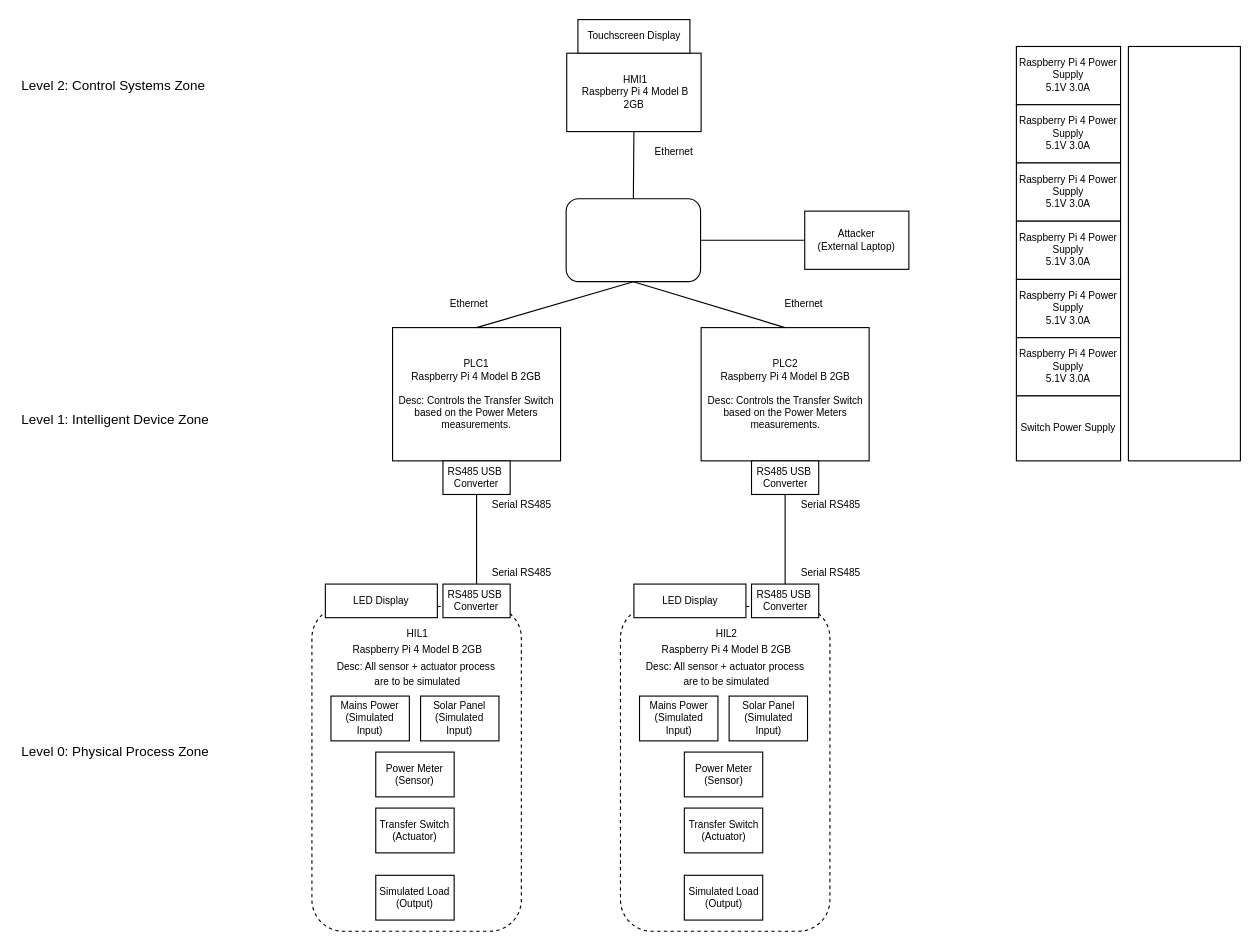
Some shapes in this 1260 by 951 pixel diagram are drawn without their labels. The centre of each missing label's shape, as x and y in pixels:
"Power Board" belongs at pixel 1183 253.
"Switch Min number of Ports: 8 (PLCs: 4, HMIs: 2, misc: 2)" belongs at pixel 633 240.
